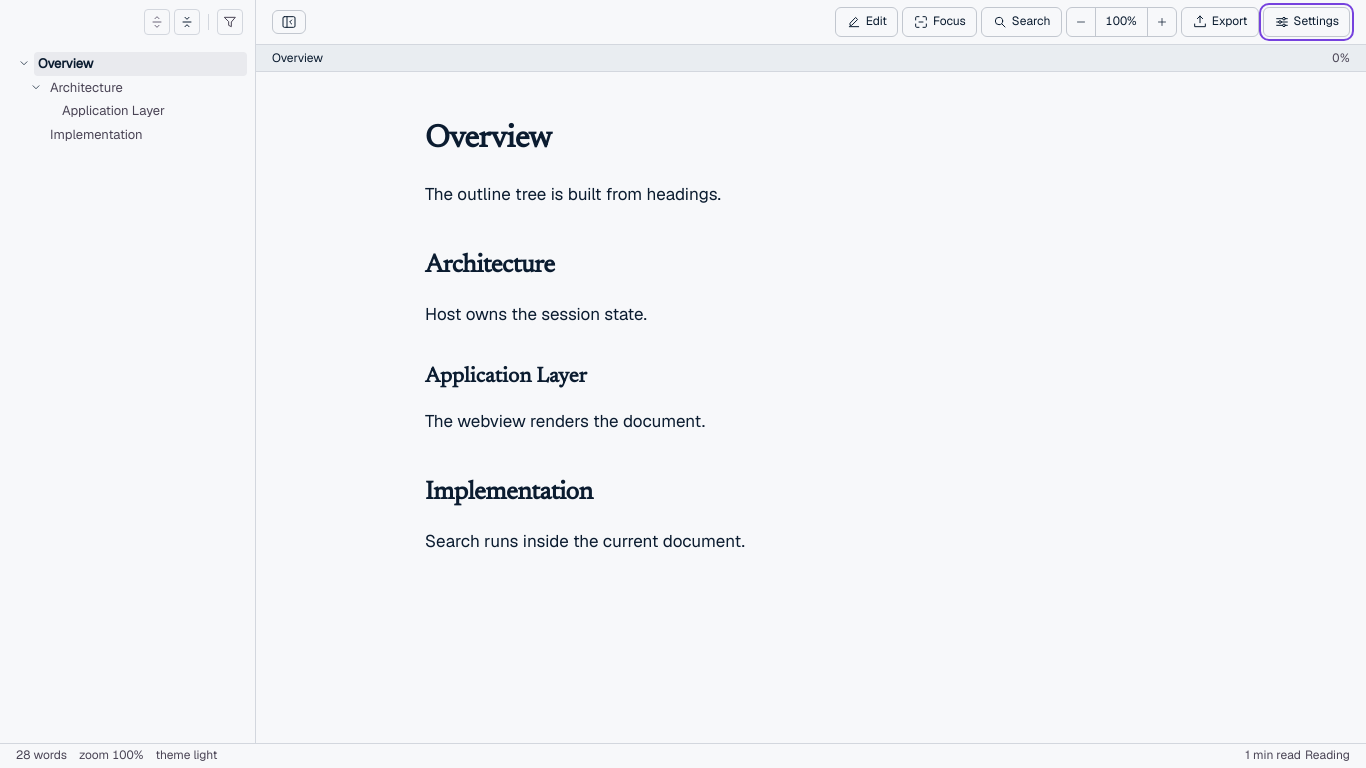
Scenario: 顶栏 / 弹层 / 状态条装配（M6） › 弹层开合：aria-expanded 跟随，Escape 关闭且焦点回触发器
This screenshot has width=1366, height=768.
Click the button with aria-label "Reader settings": (1306, 22) [1263,7,1350,37]
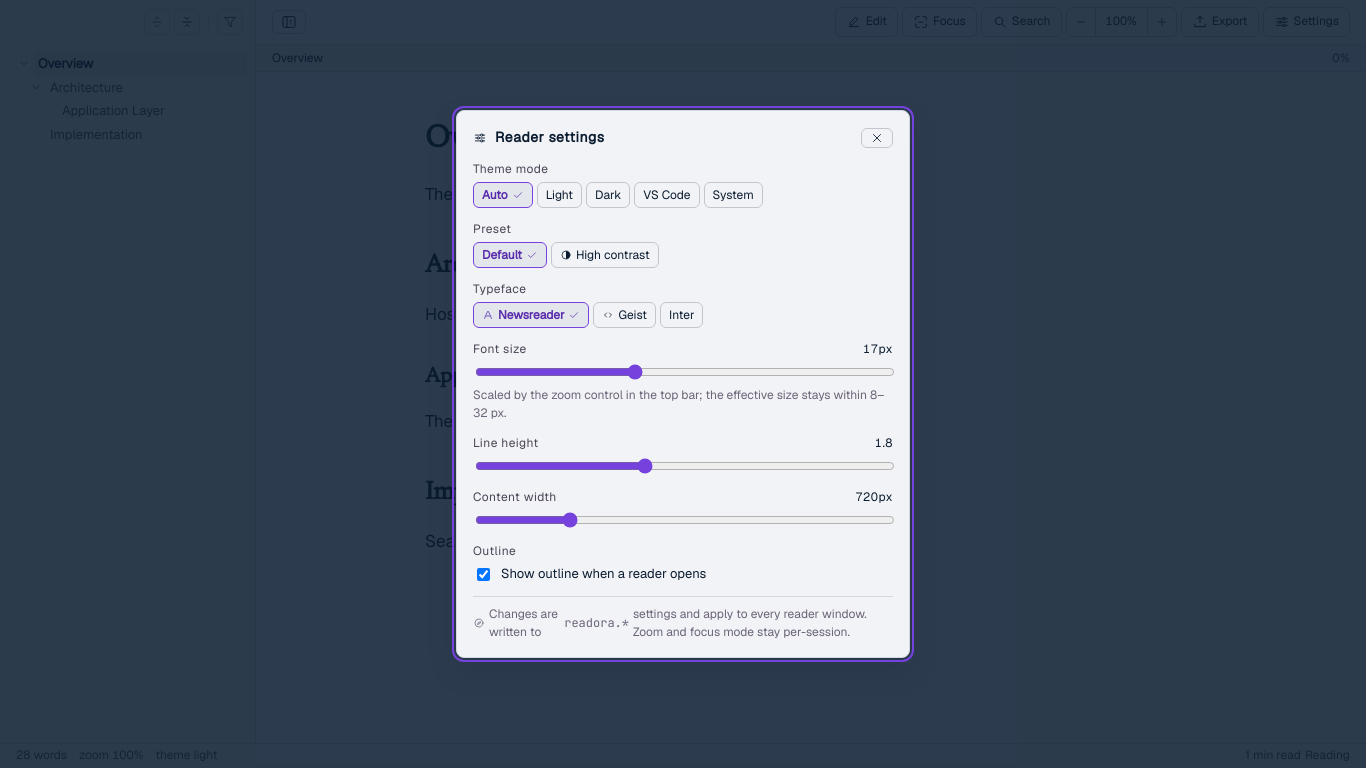
Press Escape in the dialog with class "readora-settings-dialog", box [456,110,910,658]
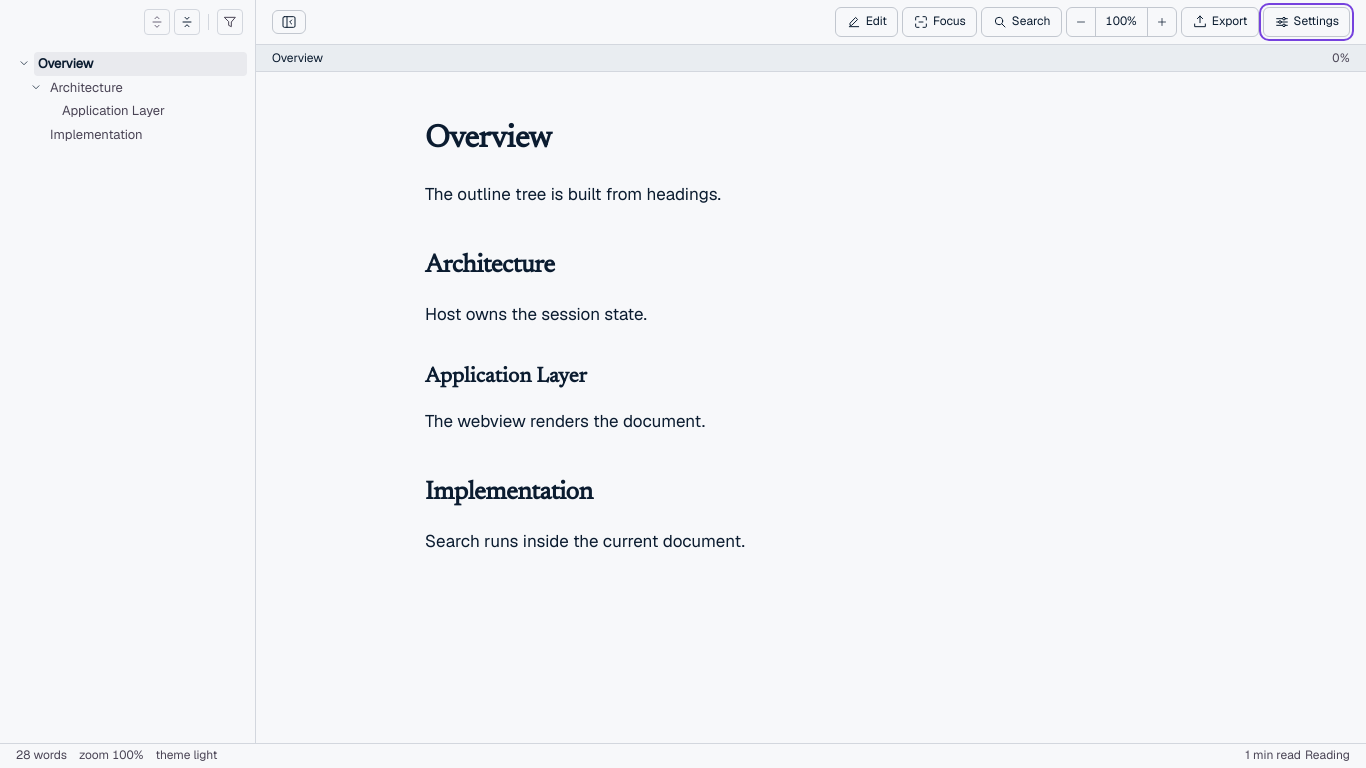
Now the dialog with class "readora-settings-dialog" is gone
